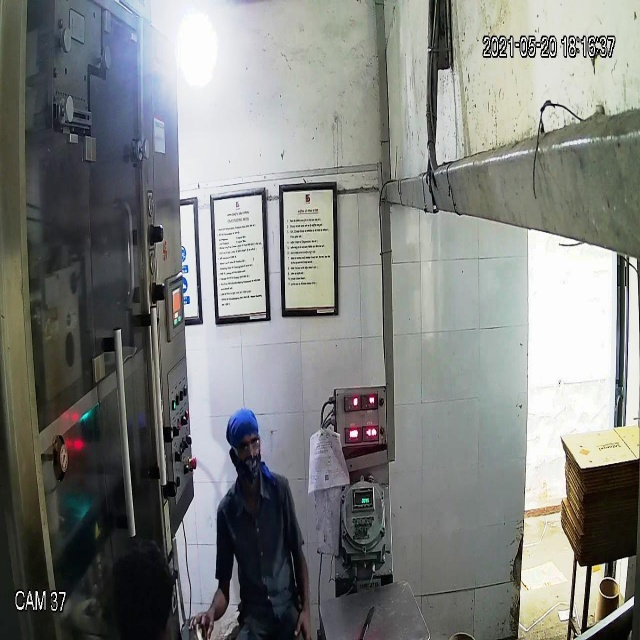Gafas: (228, 434, 265, 463)
